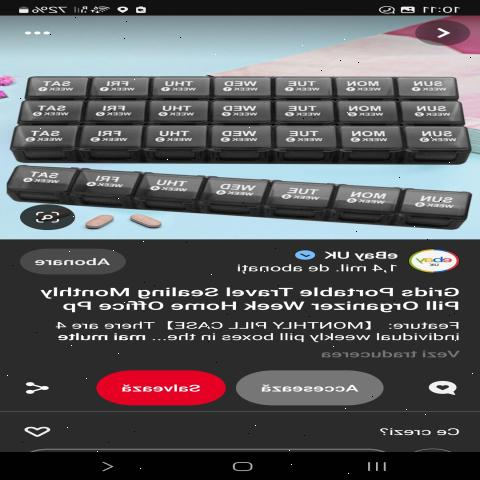PillBox: (0, 61, 471, 164)
